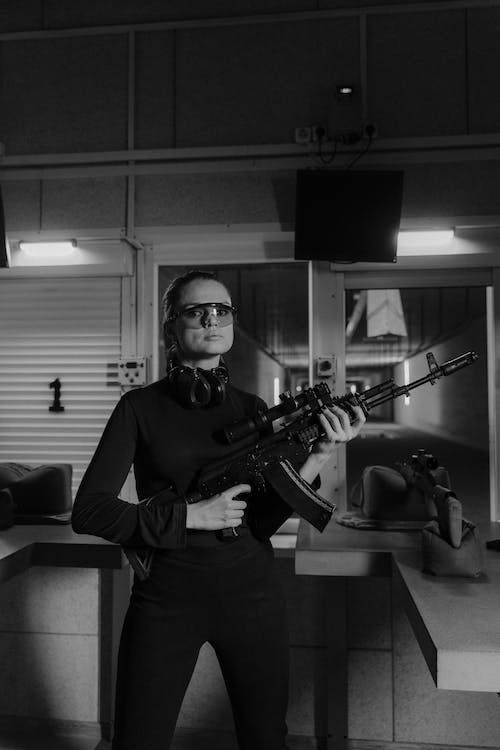gun: (113, 345, 482, 586)
